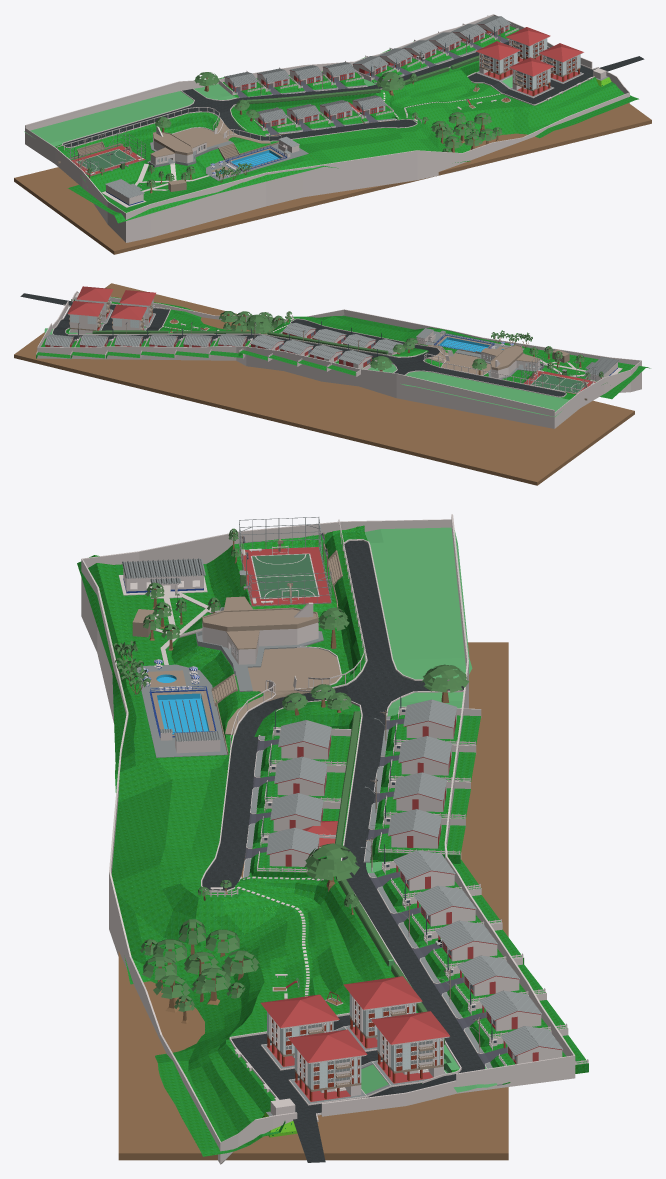
Rendered from vrsd_v1_textures_1.glb.
3 renders of one model, top to bottom at view 1: azimuth 30°, elevation 25°; view 2: azimuth 150°, elevation 25°; view 3: azimuth 270°, elevation 25°, orthographic. The views are drawn at different scales.
Visible parts, largest first — view 1: muro, grama, Length-310m, clube-upper, rua.011, clube-lower-plane, rua, preio-telhado (×4), rua.002, quadra, cerca-viva, estacionamento (+8 smaller); view 2: Length-310m, muro, grama, rua, rua.011, preio-telhado (×4), clube-lower-plane, cerca-viva, quadra, rua.002, estacionamento, rua.001 (+9 smaller); view 3: grama, Length-310m, muro, roof.001 (×14), rua, house_grass (×12), rua.011, clube-upper, clube-lower-plane, preio-telhado (×4), rua.003, quadra (+11 smaller).
Part boxes in pixels (x1=…): muro: x1=25, y1=14, x2=629, y2=242; grama: x1=231, y1=60, x2=638, y2=168; Length-310m: x1=14, y1=103, x2=651, y2=254; clube-upper: x1=55, y1=112, x2=270, y2=191; rua.011: x1=24, y1=79, x2=375, y2=146; clube-lower-plane: x1=68, y1=135, x2=323, y2=223; rua: x1=63, y1=84, x2=416, y2=146; preio-telhado (×4): x1=476, y1=27, x2=583, y2=76; rua.002: x1=468, y1=47, x2=644, y2=104; quadra: x1=71, y1=145, x2=144, y2=175; cerca-viva: x1=245, y1=55, x2=479, y2=103; estacionamento: x1=172, y1=119, x2=237, y2=147; Length-310m: x1=14, y1=283, x2=634, y2=485; muro: x1=37, y1=291, x2=641, y2=428; grama: x1=66, y1=297, x2=430, y2=358; rua: x1=256, y1=319, x2=565, y2=396; rua.011: x1=368, y1=361, x2=569, y2=416; preio-telhado (×4): x1=67, y1=286, x2=155, y2=320; clube-lower-plane: x1=429, y1=327, x2=650, y2=399; cerca-viva: x1=92, y1=330, x2=388, y2=354; quadra: x1=524, y1=370, x2=596, y2=394; rua.002: x1=20, y1=293, x2=169, y2=330; estacionamento: x1=427, y1=352, x2=490, y2=375; rua.001: x1=65, y1=327, x2=426, y2=357; grama: x1=111, y1=701, x2=458, y2=1156; Length-310m: x1=118, y1=642, x2=508, y2=1160; muro: x1=81, y1=514, x2=575, y2=1164; roof.001 (×14): x1=266, y1=699, x2=562, y2=1055; rua: x1=202, y1=540, x2=463, y2=890; house_grass (×12): x1=249, y1=714, x2=567, y2=1048; rua.011: x1=365, y1=527, x2=472, y2=873; clube-upper: x1=171, y1=525, x2=367, y2=734; clube-lower-plane: x1=77, y1=555, x2=359, y2=774; preio-telhado (×4): x1=260, y1=976, x2=449, y2=1063; rua.003: x1=346, y1=875, x2=484, y2=1081; quadra: x1=240, y1=547, x2=330, y2=605.
Bounding box in the file's own units: 340 × 44.59 × 131.
Materials: 21 (7 with a texture image).
